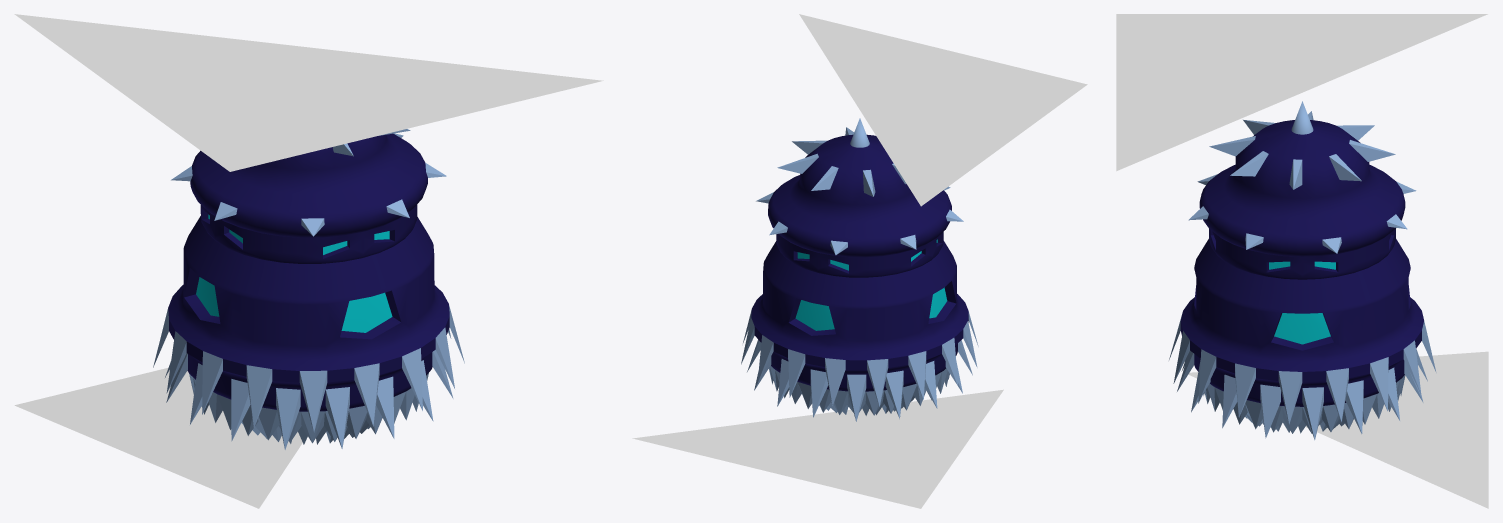
File: chased.fbx
The picture shows the model from 3 angles, left to right: view 1: azimuth 30°, elevation 25°; view 2: azimuth 150°, elevation 25°; view 3: azimuth 270°, elevation 25°; orthographic projection. The views are drawn at different scales.
Visible parts, largest first — view 1: CHASED; view 2: CHASED; view 3: CHASED.
Part boxes in pixels (x1,y1,x2,y2): CHASED: (14, 14, 603, 508); CHASED: (632, 14, 1087, 508); CHASED: (1116, 14, 1488, 508).
Bounding box in the file's own units: 800 × 800 × 800.
